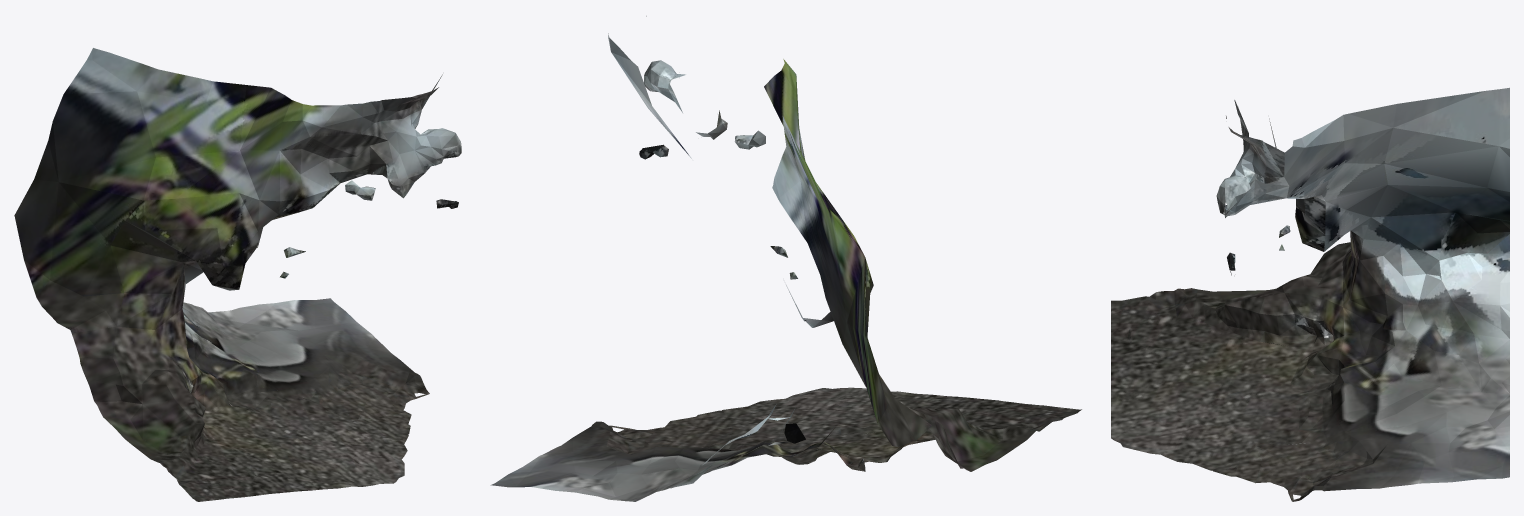
3 views of the same model, side by side, from view 1: azimuth 30°, elevation 25°; view 2: azimuth 150°, elevation 25°; view 3: azimuth 270°, elevation 25° (orthographic). The views are drawn at different scales.
Bounding box in the file's own units: 0.8374 × 0.8374 × 0.8374.
Materials: 4 (4 with a texture image).
